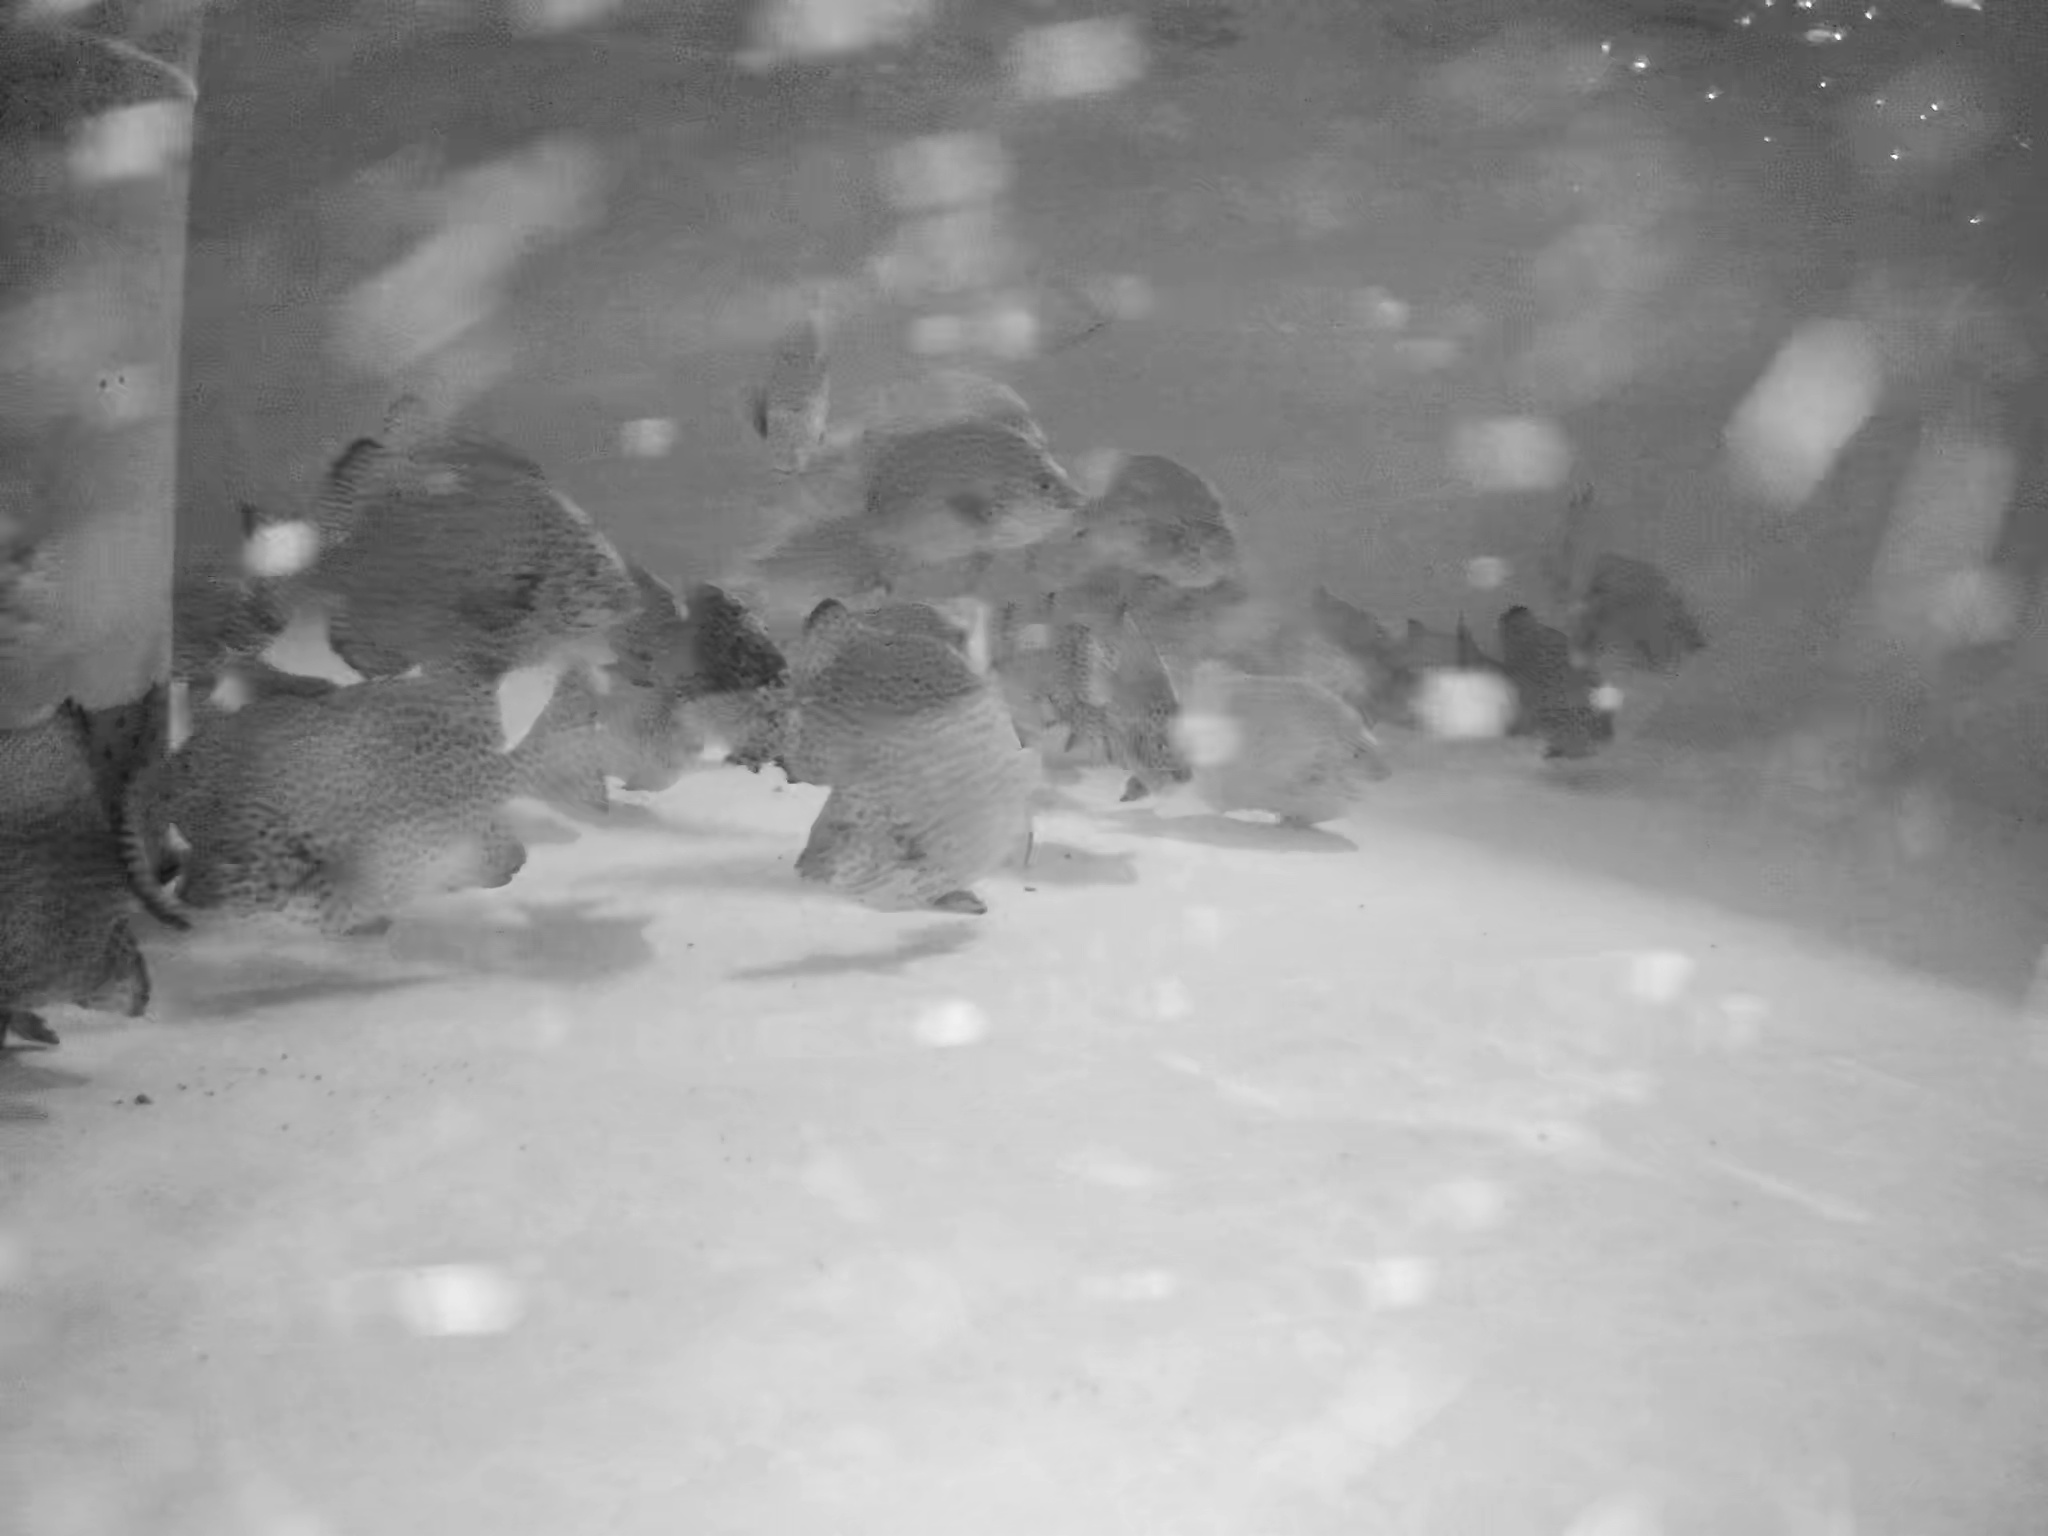fish: (187, 686, 622, 899), (256, 428, 651, 636), (793, 702, 1058, 931), (2, 695, 158, 1044), (1171, 660, 1388, 831), (1455, 579, 1637, 771), (808, 600, 976, 794), (1085, 415, 1263, 594), (845, 416, 1095, 541), (1042, 607, 1201, 799), (1334, 595, 1509, 753), (839, 373, 1056, 495), (658, 603, 810, 773), (1580, 537, 1730, 691), (716, 292, 843, 465), (795, 592, 1013, 691), (618, 591, 780, 721), (173, 571, 295, 710)
